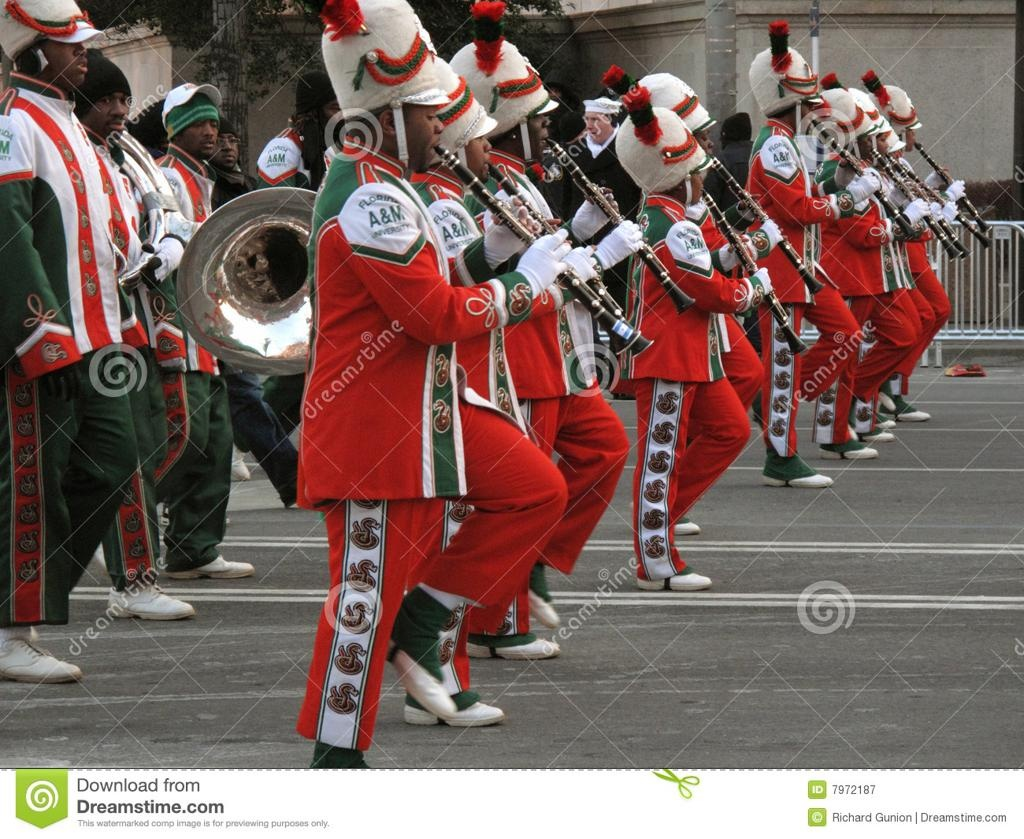human_face: (377, 78, 443, 174), (36, 14, 86, 90), (446, 105, 490, 184), (502, 88, 550, 158), (81, 76, 131, 140), (180, 104, 216, 156), (682, 118, 714, 166), (320, 87, 348, 137), (675, 156, 703, 204), (787, 86, 815, 130), (208, 128, 238, 166), (584, 107, 610, 143), (847, 123, 873, 159), (892, 115, 916, 151), (869, 124, 889, 160), (718, 122, 740, 150)
